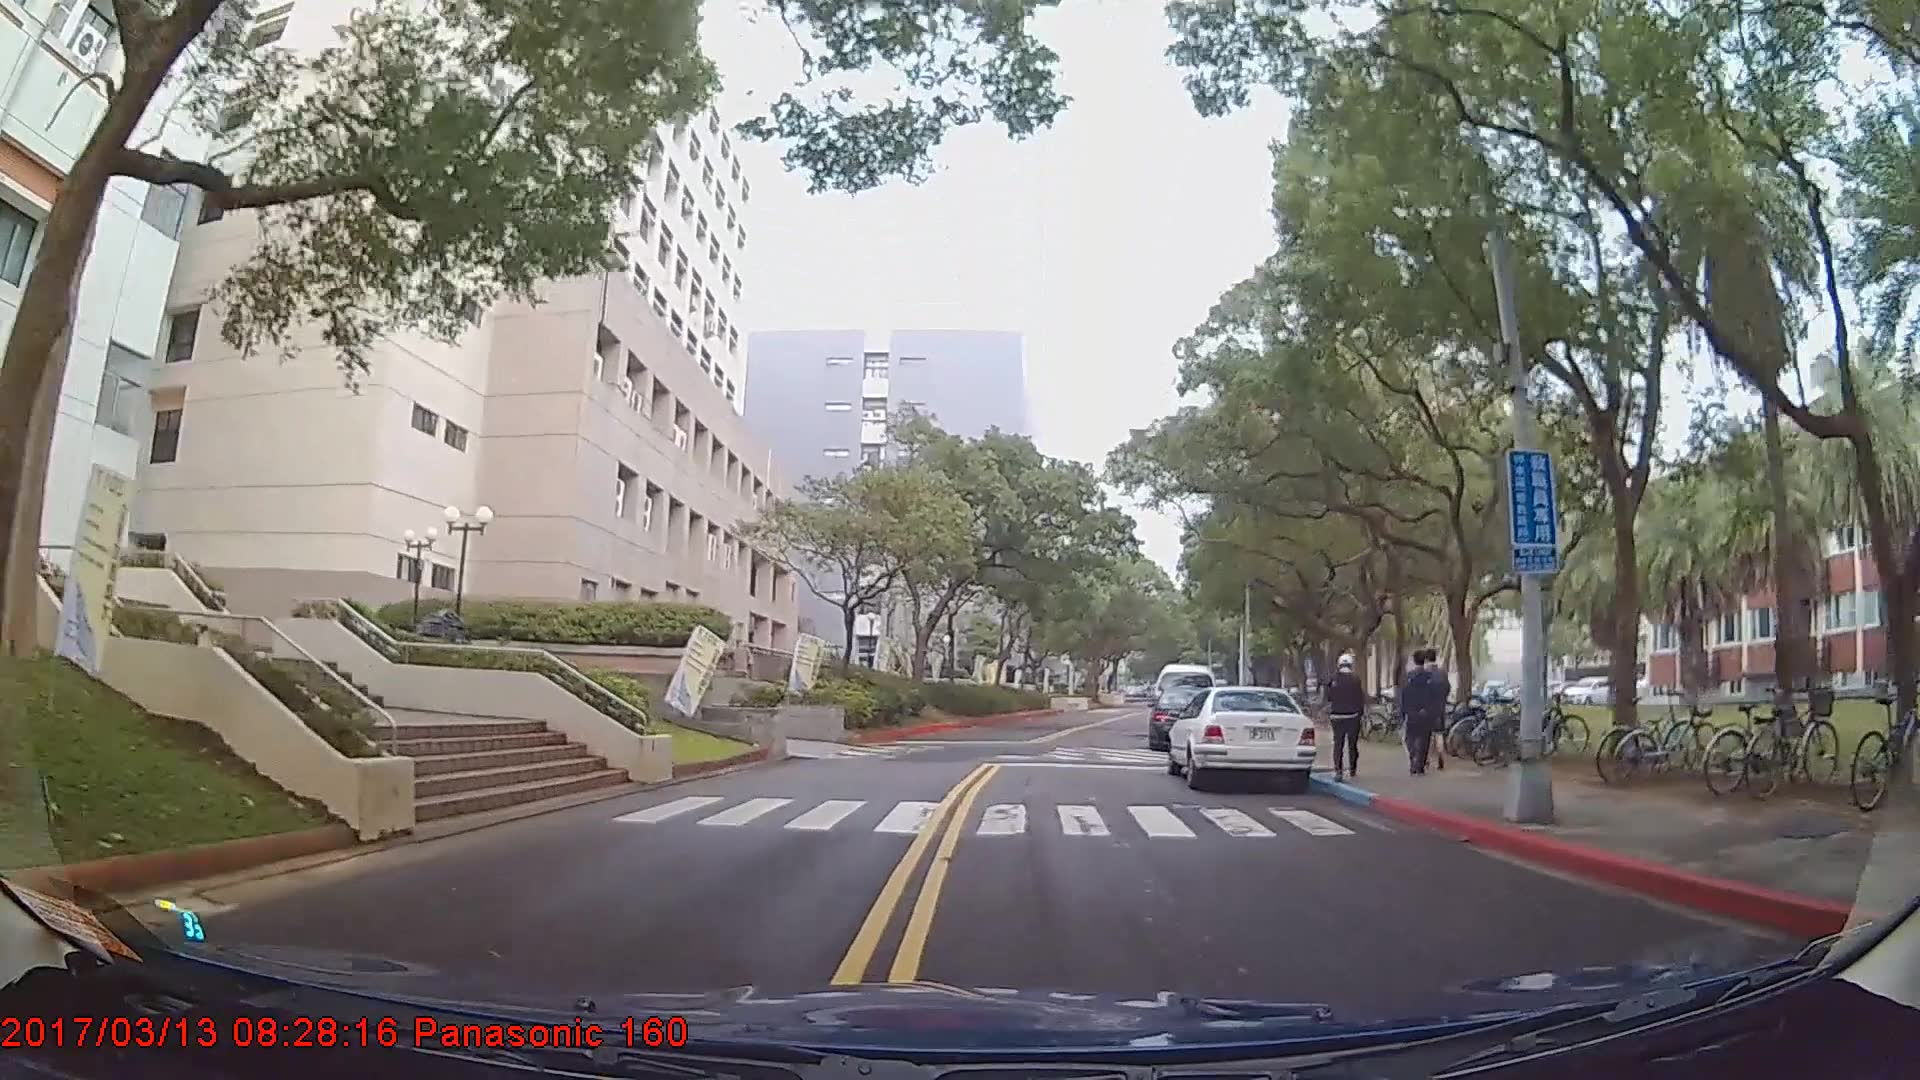pedestrian: (1399, 643, 1448, 780), (1327, 649, 1368, 781)
vehicle: (1165, 685, 1317, 793)
